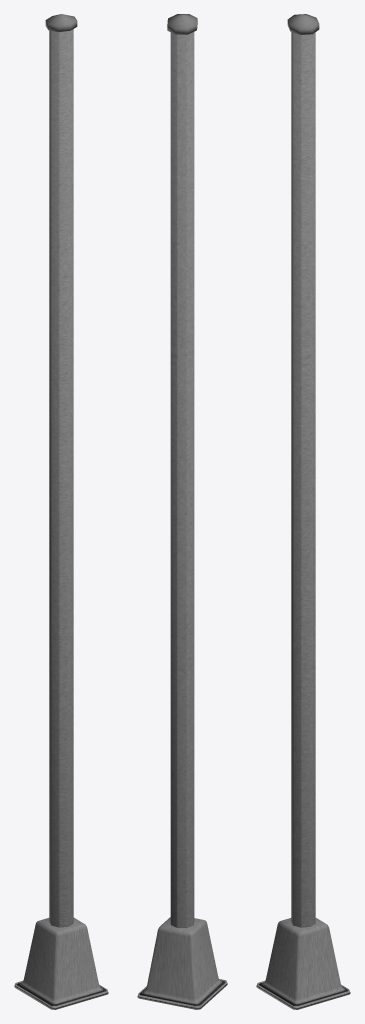
Rendered from street_sign_pole.glb.
3 views of the same model, side by side, from view 1: azimuth 90°, elevation 25°; view 2: azimuth 210°, elevation 25°; view 3: azimuth 270°, elevation 25° (orthographic).
Visible parts, largest first — view 1: Stop light 4; view 2: Stop light 4; view 3: Stop light 4.
Boxes of the visible parts, x1,y1,x2,y2 form: Stop light 4: (14,14,108,1009); Stop light 4: (137,14,227,1009); Stop light 4: (256,14,350,1009).
Bounding box in the file's own units: 0.638 × 7.27 × 0.638.
1 material, 1 textured.
